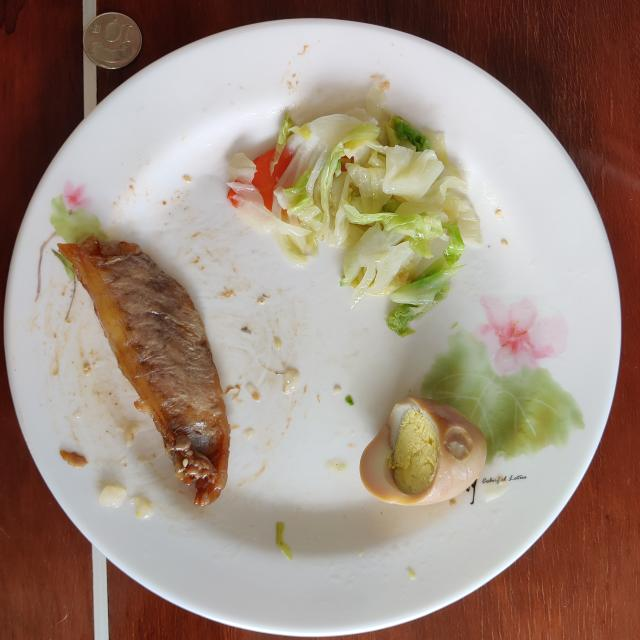Kabayaki sea bream fillet: (59, 236, 230, 505)
cabbage: (226, 79, 482, 336)
coin: (82, 12, 141, 69)
soy egg: (360, 398, 486, 505)
